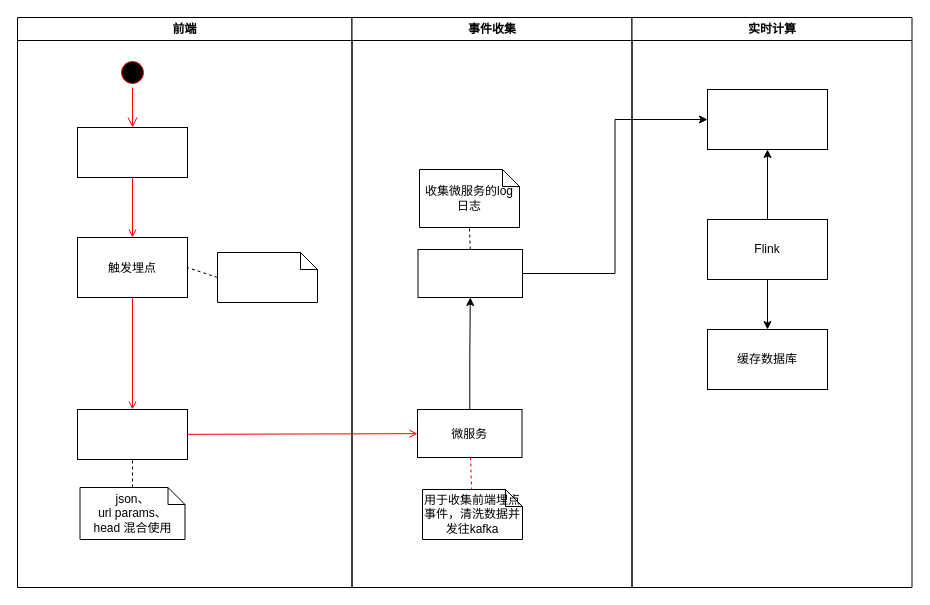
The diagram is 930 pixels wide and 605 high, and some of its shapes have lost their labels. The shapes that lost their labels are listed below. From the top down, each one's centre as x and y in pixels, then its label:
At point 767,119: "Kakfa".
At point 132,152: "用户页面".
At point 267,277: "手工埋点、 可视化埋点、 无埋点 混合使用".
At point 469,273: "filebeat".
At point 132,434: "发送请求".
